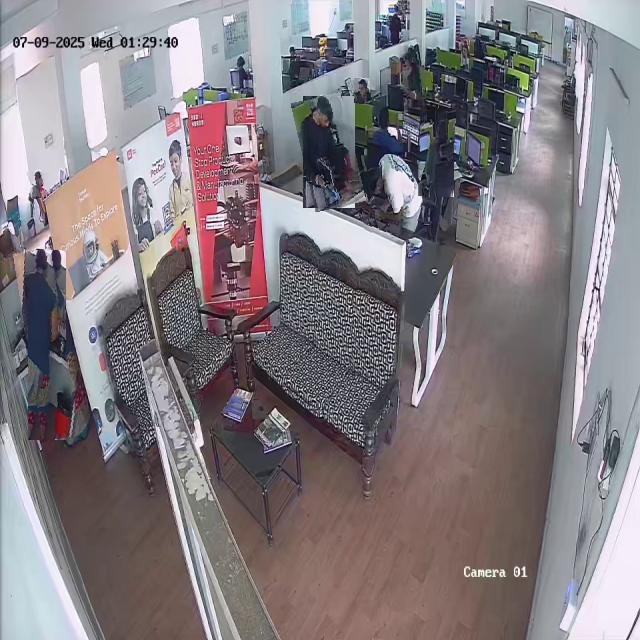person: (21, 249, 73, 441), (297, 94, 361, 210), (361, 152, 423, 235), (419, 108, 455, 197), (368, 106, 402, 153), (401, 52, 424, 107), (27, 169, 50, 199), (353, 78, 371, 104)
